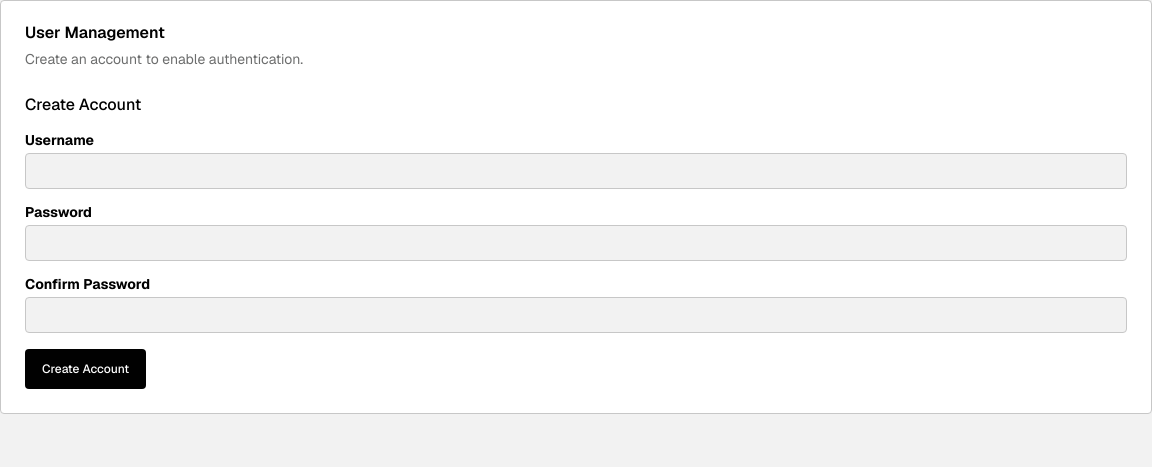
Scenario: UserManagementSection › no users (setup state) › shows validation error when password is too short
Type "admin" into the field labelled "Username" at coordinates (576, 171), box [25,153,1127,189]
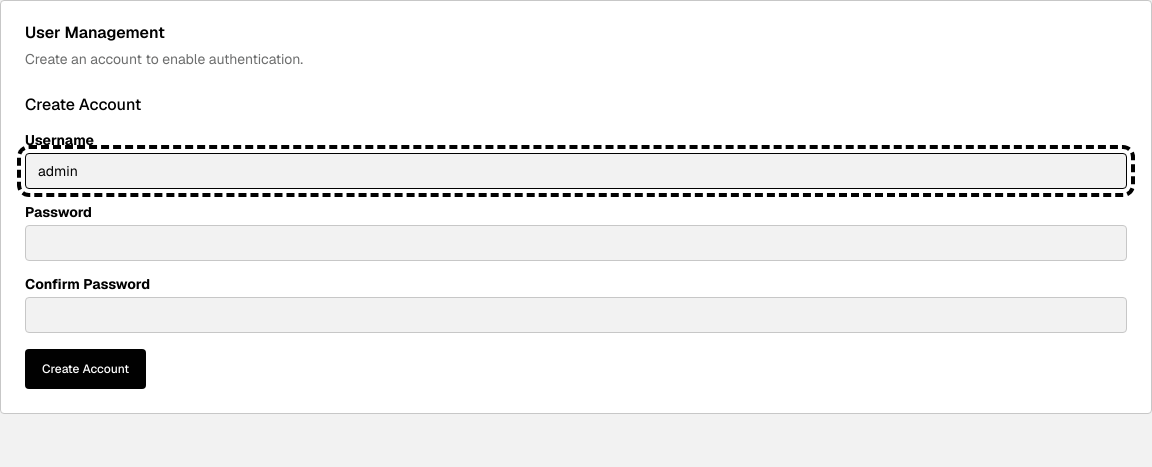
Type "short" into the password field labelled "Password" at coordinates (576, 243), box [25,225,1127,261]
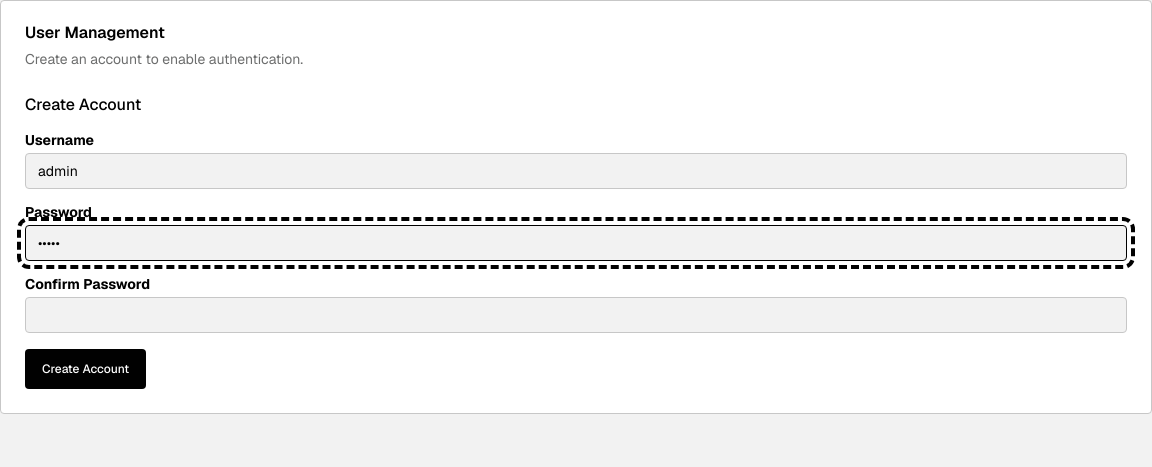
Type "short" into the password field labelled "Confirm Password" at coordinates (576, 315), box [25,297,1127,333]
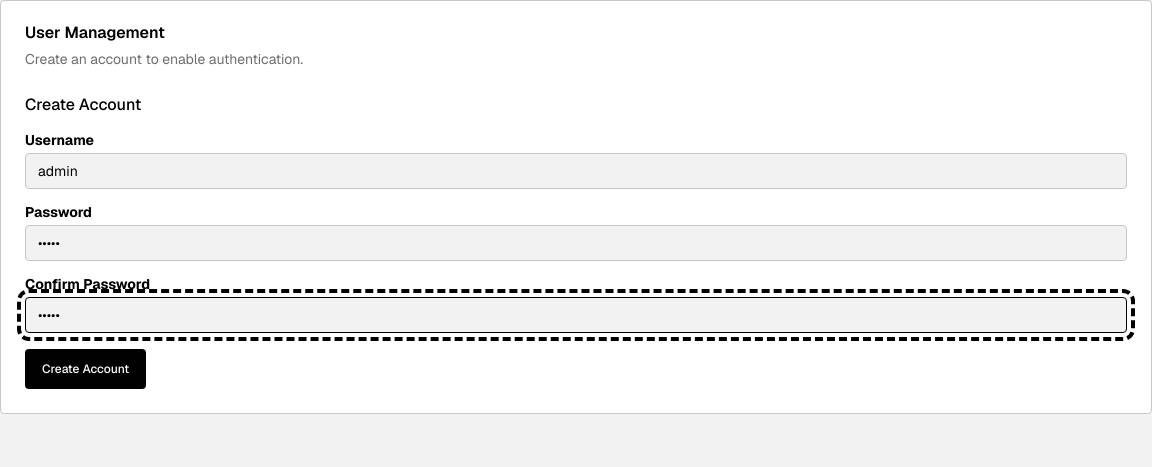
Click the button "Create Account" at coordinates (86, 369), box [25,349,146,389]
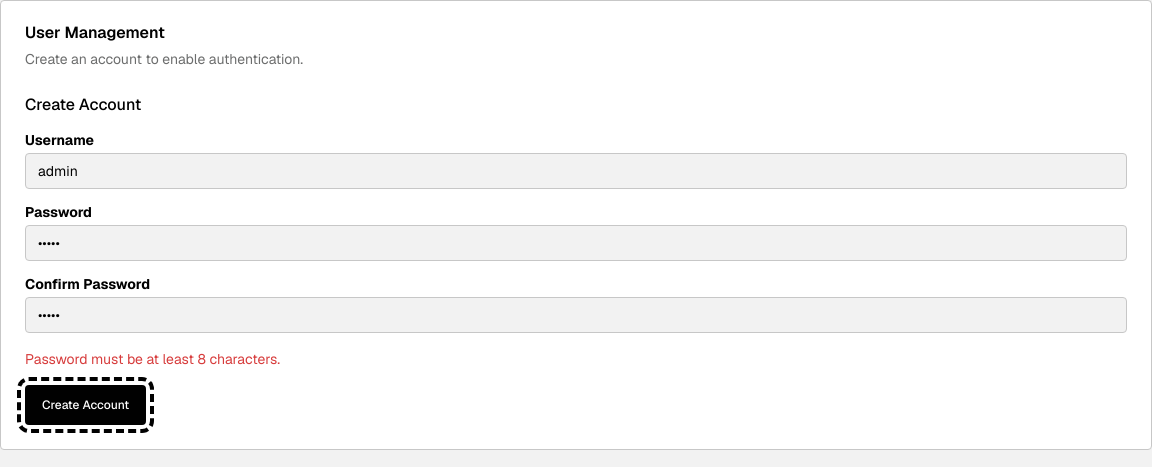
expect the text "Password must be at least 8 characters." is shown: met, box [25,350,280,368]
